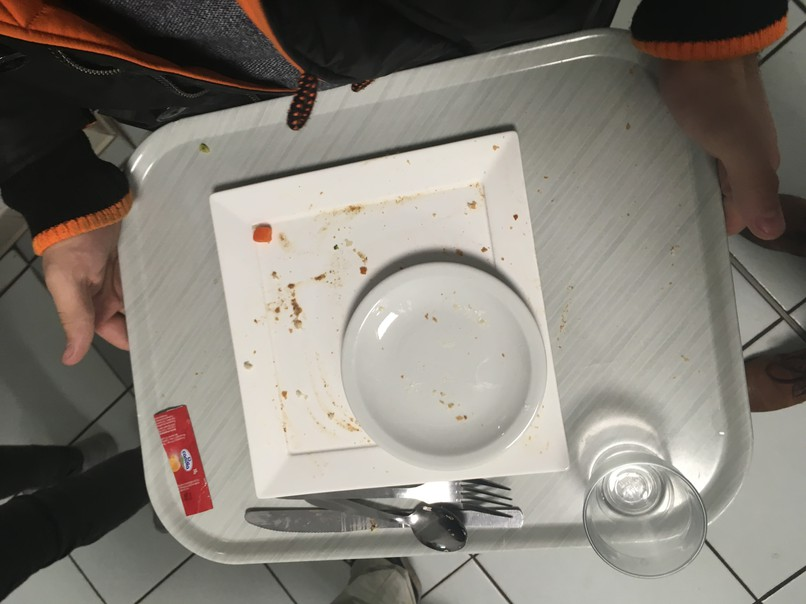cup: (563, 439, 721, 587)
cutlery: (241, 484, 516, 561)
orga: (250, 219, 280, 254)
trash: (147, 405, 230, 533)
